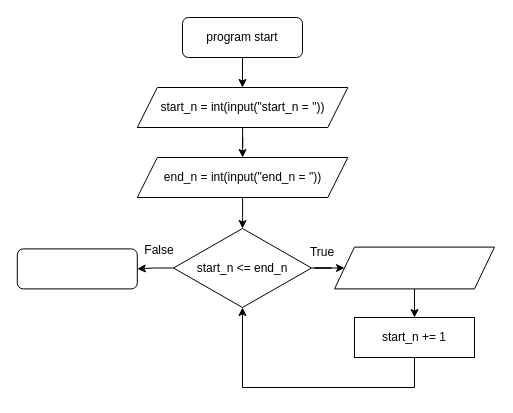
Some shapes in this 513 by 413 pixel diagram are drawn without their labels. Each missing label, with the centre of its shape:
out: start_n: point (414, 267)
program stop: point (76, 268)
